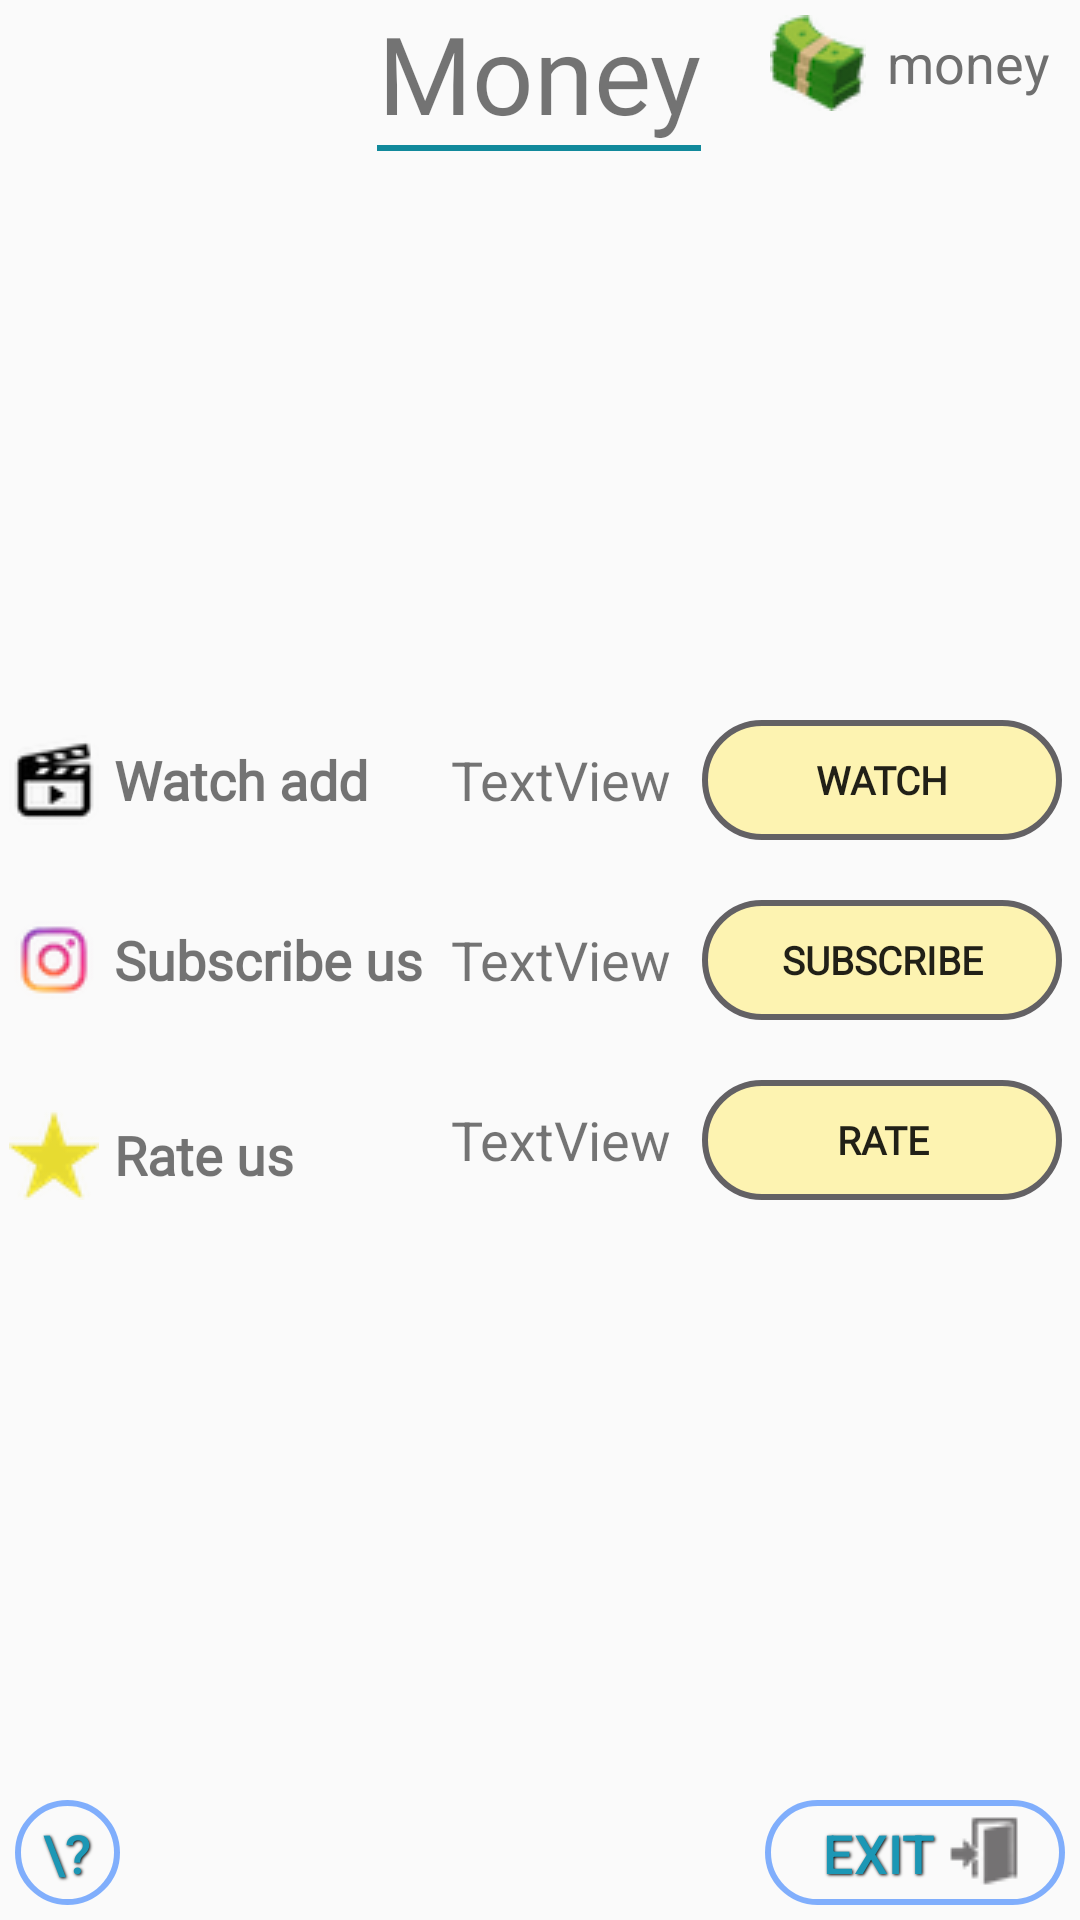

Icons on this 1080w x 1920h Android screen, each with the point to tap as point (x, y):
star view: point (54, 1155)
